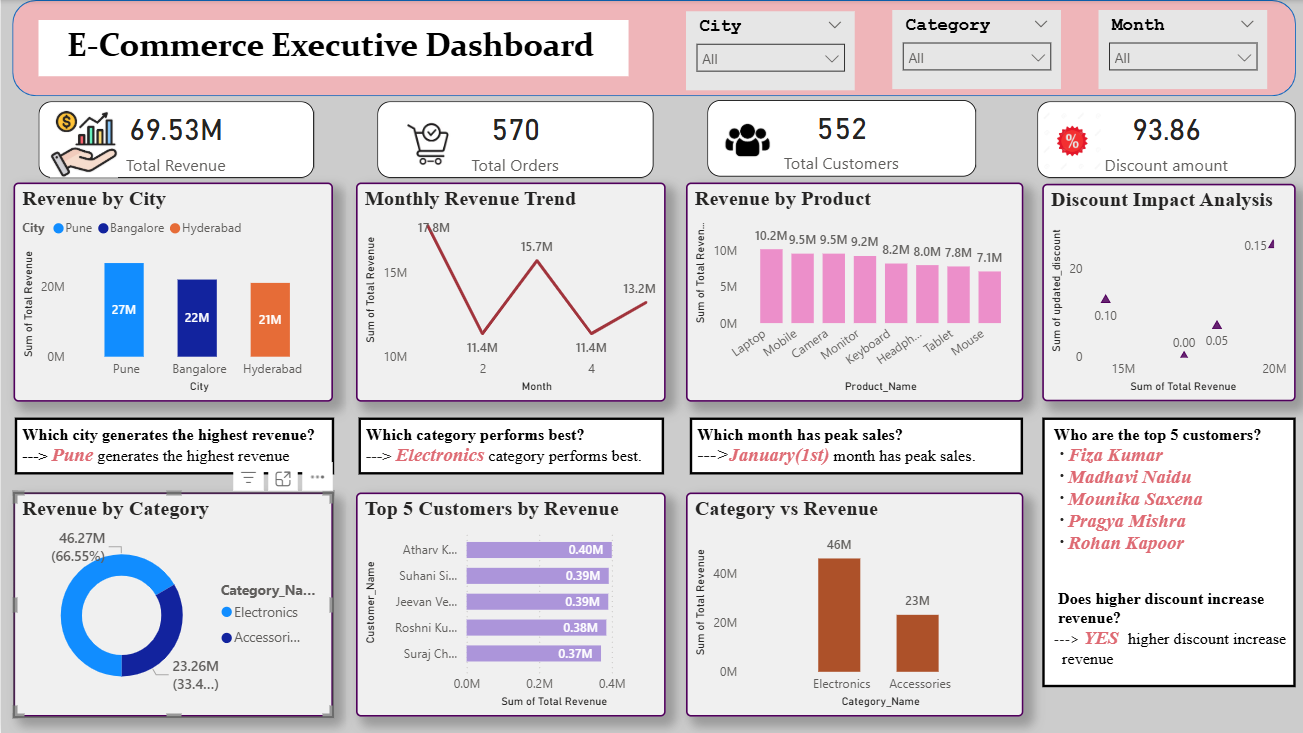

This screenshot's page, from the dashboard's own definition file:
{"tool":"powerbi","page":{"name":"Page 1","canvas":[1280,720],"ordinal":0},"visuals":[{"type":"shape","box":[11,0,1260.1,94.5],"z":0},{"type":"card","fields":{"Values":["CountNonNull(Sheet1.Order_ID)"]},"box":[368.8,100,271.2,75],"z":1000},{"type":"card","fields":{"Values":["Count(Sheet1.Customer_Name)"]},"box":[693.8,98.8,263.8,75],"z":2000},{"type":"card","fields":{"Values":["Sum(Sheet1.Total Revenue)"]},"box":[36.2,100,270,75],"z":3000},{"type":"card","fields":{"Values":["Avg(Sheet1.Discount amount)"]},"box":[1017.5,100,253.8,75],"z":4000},{"type":"textbox","box":[36.8,19.6,579.1,55.2],"z":5000},{"type":"slicer","fields":{"Values":["Sheet1.City"]},"box":[672.4,11,165.6,77.3],"z":6000},{"type":"slicer","fields":{"Values":["Sheet1.Category_Name"]},"box":[874.9,9.8,165.6,77.3],"z":7000},{"type":"slicer","fields":{"Values":["Sheet1.Month"]},"box":[1077.3,9.8,165.6,77.3],"z":8000},{"type":"columnChart","title":" Revenue by City ","fields":{"Category":["Sheet1.City"],"Y":["Sum(Sheet1.Total Revenue)"],"Series":["Sheet1.City"]},"box":[12.5,178.8,313.8,215],"z":9000},{"type":"donutChart","title":"Revenue by Category","fields":{"Category":["Sheet1.Category_Name"],"Y":["Sum(Sheet1.Total Revenue)"]},"box":[12.5,483.8,313.8,220],"z":10000},{"type":"lineChart","title":"Monthly Revenue Trend","fields":{"Category":["Sheet1.Month"],"Y":["Sum(Sheet1.Total Revenue)"]},"box":[348.8,178.8,303.8,215],"z":11000},{"type":"barChart","title":"Top 5 Customers by Revenue","fields":{"Category":["Sheet1.Customer_Name"],"Y":["Sum(Sheet1.Total Revenue)"]},"box":[348.8,483.8,303.8,220],"z":12000},{"type":"clusteredColumnChart","title":"Revenue by Product","fields":{"Category":["Sheet1.Product_Name"],"Y":["Sum(Sheet1.Total Revenue)"]},"box":[672.5,178.8,331.2,215],"z":13000},{"type":"columnChart","title":"Category vs Revenue ","fields":{"Category":["Sheet1.Category_Name"],"Y":["Sum(Sheet1.Total Revenue)"]},"box":[672.5,483.8,331.2,220],"z":14000},{"type":"scatterChart","title":"Discount Impact Analysis ","fields":{"Category":["Sheet1.updated_discount"],"X":["Sum(Sheet1.Total Revenue)"],"Y":["Sum(Sheet1.updated_discount)"]},"box":[1022.5,180,248.8,213.8],"z":15000},{"type":"image","box":[46.2,107.5,70,66.2],"z":16000},{"type":"image","box":[378.8,112.5,82.5,53.8],"z":17000},{"type":"image","box":[693.8,106.2,78.8,61.2],"z":18000},{"type":"image","box":[1017.5,108.8,68.8,58.8],"z":19000},{"type":"textbox","box":[1022.5,410,248.8,265],"z":20000},{"type":"textbox","box":[13.8,410,313.8,56.2],"z":21000},{"type":"textbox","box":[351.2,410,300,56.2],"z":22000},{"type":"textbox","box":[676.2,410,327.5,56.2],"z":23000}]}

Visuals, with their boxes in screenshot pixels (x1, y1, x2, y2), scaled from the page's 1280x720 canvas onto the 1303x733 screenshot:
shape: 11:0:1294:96
card - CountNonNull(Sheet1.Order_ID): 375:102:652:178
card - Count(Sheet1.Customer_Name): 706:101:975:177
card - Sum(Sheet1.Total Revenue): 37:102:312:178
card - Avg(Sheet1.Discount amount): 1036:102:1294:178
textbox: 37:20:627:76
slicer - Sheet1.City: 684:11:853:90
slicer - Sheet1.Category_Name: 891:10:1059:89
slicer - Sheet1.Month: 1097:10:1265:89
" Revenue by City " columnChart: 13:182:332:401
"Revenue by Category" donutChart: 13:493:332:717
"Monthly Revenue Trend" lineChart: 355:182:664:401
"Top 5 Customers by Revenue" barChart: 355:493:664:717
"Revenue by Product" clusteredColumnChart: 685:182:1022:401
"Category vs Revenue " columnChart: 685:493:1022:717
"Discount Impact Analysis " scatterChart: 1041:183:1294:401
image: 47:109:118:177
image: 386:115:470:169
image: 706:108:786:170
image: 1036:111:1106:171
textbox: 1041:417:1294:687
textbox: 14:417:333:475
textbox: 358:417:663:475
textbox: 688:417:1022:475
